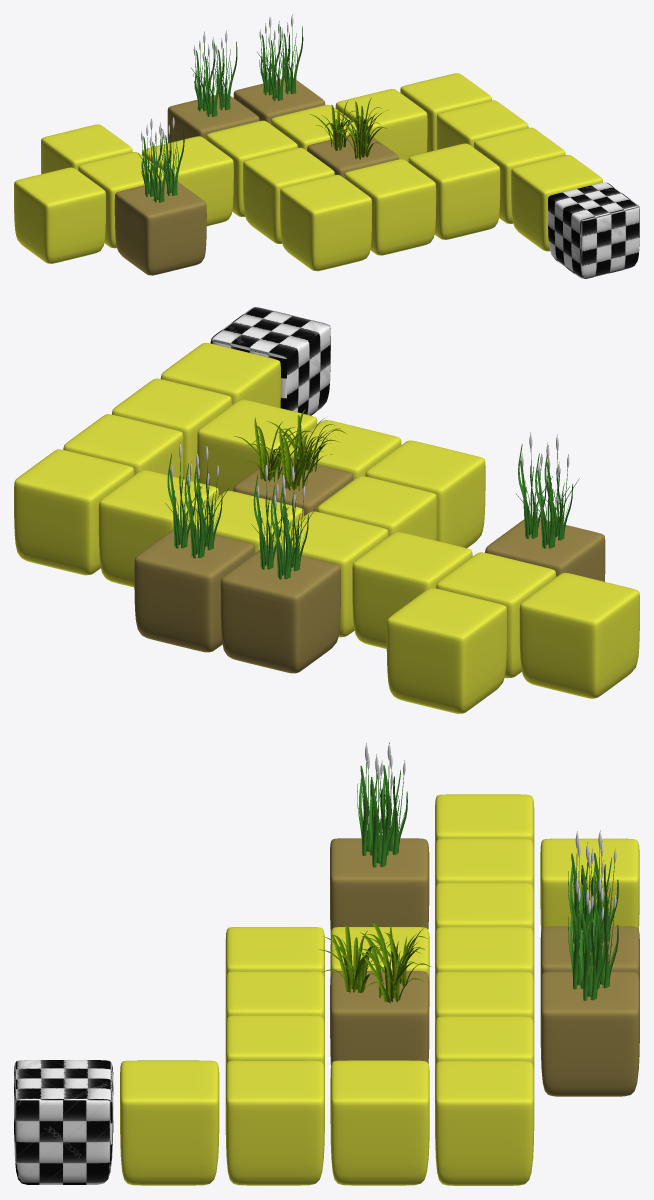
The model's file is Level4_base.glb.
3 views of the same model, one above another, from view 1: azimuth 30°, elevation 25°; view 2: azimuth 150°, elevation 25°; view 3: azimuth 270°, elevation 25° (orthographic). The views are drawn at different scales.
Visible parts, largest first — view 1: Cube.002, Cube.005, Cube.006, Cube.007, Cube.017, Cube.008, Cube.023, Cube.011, Cube.003, Cube.019, Cube.022, Cube.010 (+11 smaller); view 2: Cube.002, Cube.012, Cube.001, Cube.020, Cube.024, Cube.003, Cube.005, Cube.019, Cube.006, Cube.017, Cube.023, Cube.011 (+11 smaller); view 3: Cube.021, Cube.023, Cube.022, Cube.005, Cube.020, Cube.024, Cube.002, Cube.007, Cube.004, Cube.012, Cube.017, Cube.018 (+11 smaller).
Boxes of the visible parts, bbox=[...] form: Cube.002: bbox=[14, 152, 165, 263]; Cube.005: bbox=[548, 182, 639, 278]; Cube.006: bbox=[280, 174, 371, 271]; Cube.007: bbox=[114, 179, 206, 275]; Cube.017: bbox=[408, 143, 500, 239]; Cube.008: bbox=[344, 159, 436, 255]; Cube.023: bbox=[511, 155, 602, 251]; Cube.011: bbox=[243, 147, 334, 243]; Cube.003: bbox=[142, 136, 233, 226]; Cube.019: bbox=[335, 89, 427, 161]; Cube.022: bbox=[473, 127, 565, 223]; Cube.010: bbox=[206, 120, 297, 216]; Cube.002: bbox=[436, 552, 639, 698]; Cube.012: bbox=[386, 588, 506, 713]; Cube.001: bbox=[220, 548, 340, 673]; Cube.020: bbox=[14, 449, 134, 575]; Cube.024: bbox=[134, 527, 254, 652]; Cube.003: bbox=[352, 532, 472, 648]; Cube.005: bbox=[210, 307, 330, 415]; Cube.019: bbox=[98, 470, 218, 587]; Cube.006: bbox=[365, 440, 485, 548]; Cube.017: bbox=[197, 399, 317, 495]; Cube.023: bbox=[160, 343, 280, 407]; Cube.011: bbox=[317, 476, 436, 540]; Cube.021: bbox=[330, 1060, 429, 1185]; Cube.023: bbox=[120, 1060, 219, 1185]; Cube.022: bbox=[225, 1060, 324, 1185]; Cube.005: bbox=[14, 1060, 113, 1184]; Cube.020: bbox=[435, 1061, 534, 1185]; Cube.024: bbox=[540, 971, 639, 1096]; Cube.002: bbox=[435, 794, 534, 895]; Cube.007: bbox=[330, 838, 429, 934]; Cube.004: bbox=[330, 971, 429, 1065]; Cube.012: bbox=[540, 838, 639, 931]; Cube.017: bbox=[225, 1015, 324, 1071]; Cube.018: bbox=[435, 971, 534, 1028].
Size of the model in its own units: 20.25 by 6.17 by 17.37.
6 materials, 2 textured.
